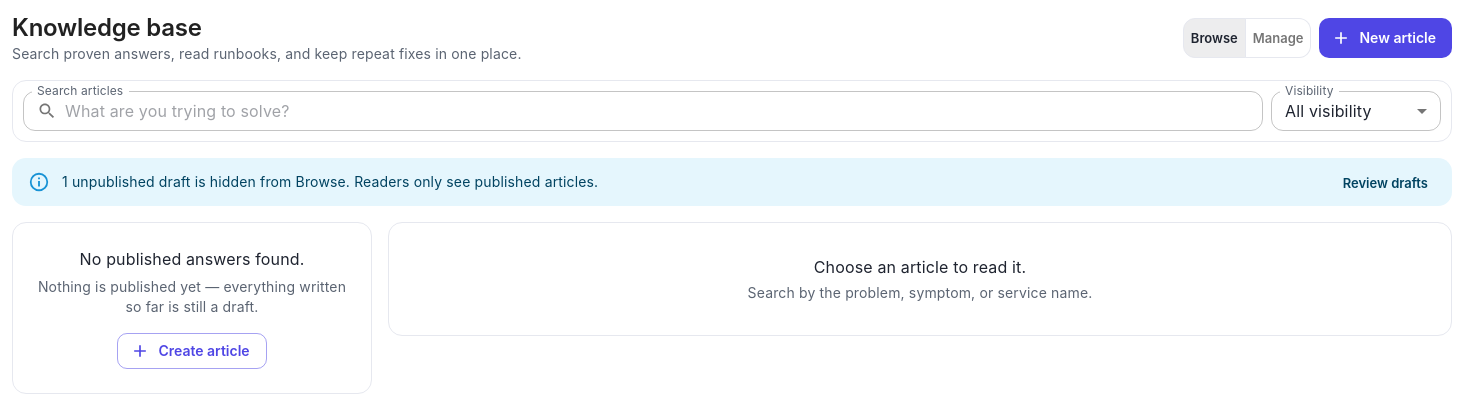
Test: KnowledgeBaseView › tells an author how many drafts Browse is hiding and switches to Manage
Expected: the text "1 unpublished draft is hidden from Browse" is shown, 62,173 -> 350,190
Click the button "Review drafts". click: (1385, 183)
box: 1327,168 -> 1444,199
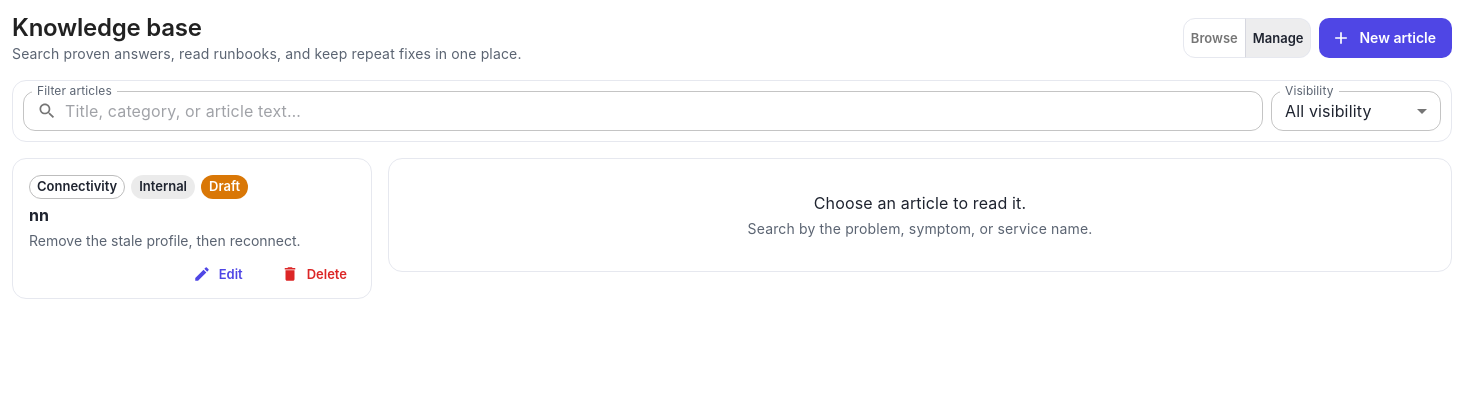
Expected: the text "nn" is shown, 29,205 -> 49,225
Expected: the text "hidden from Browse" is gone
